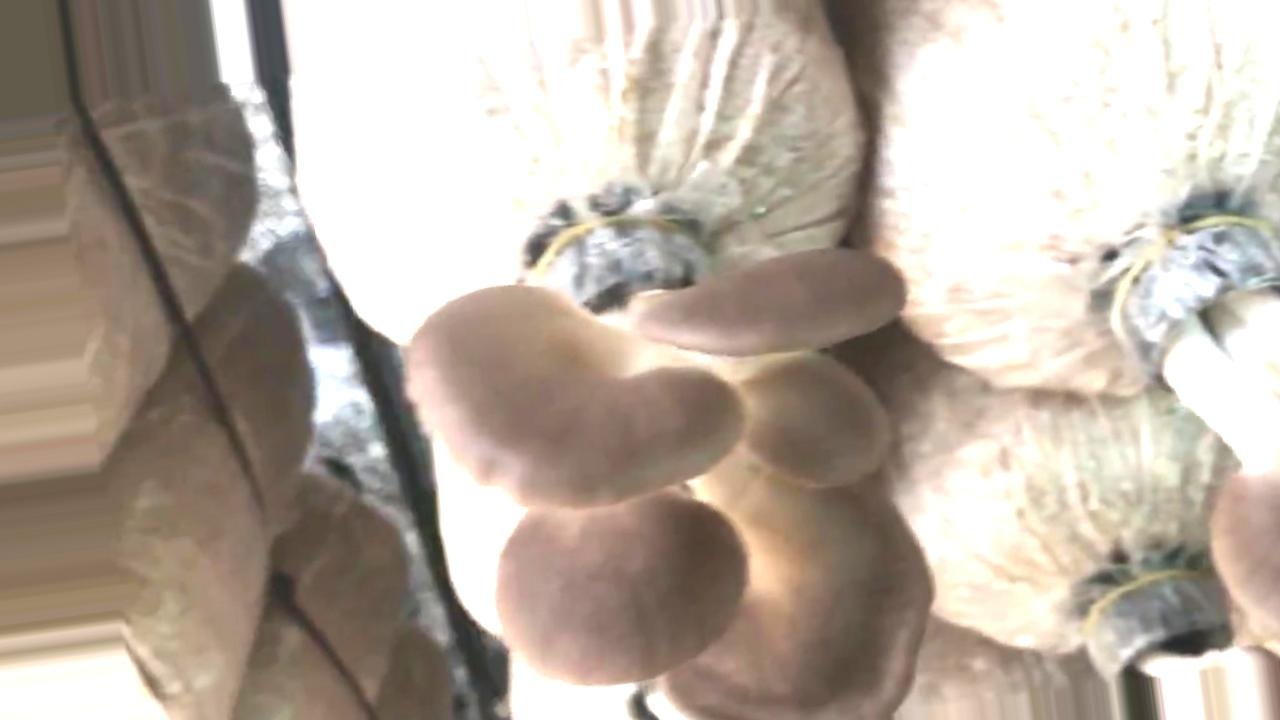nam: (402, 223, 930, 719), (1110, 218, 1279, 627)
